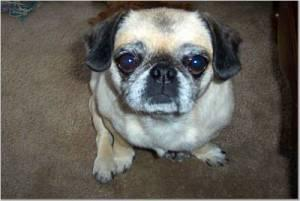dog-pug: (83, 6, 239, 113)
